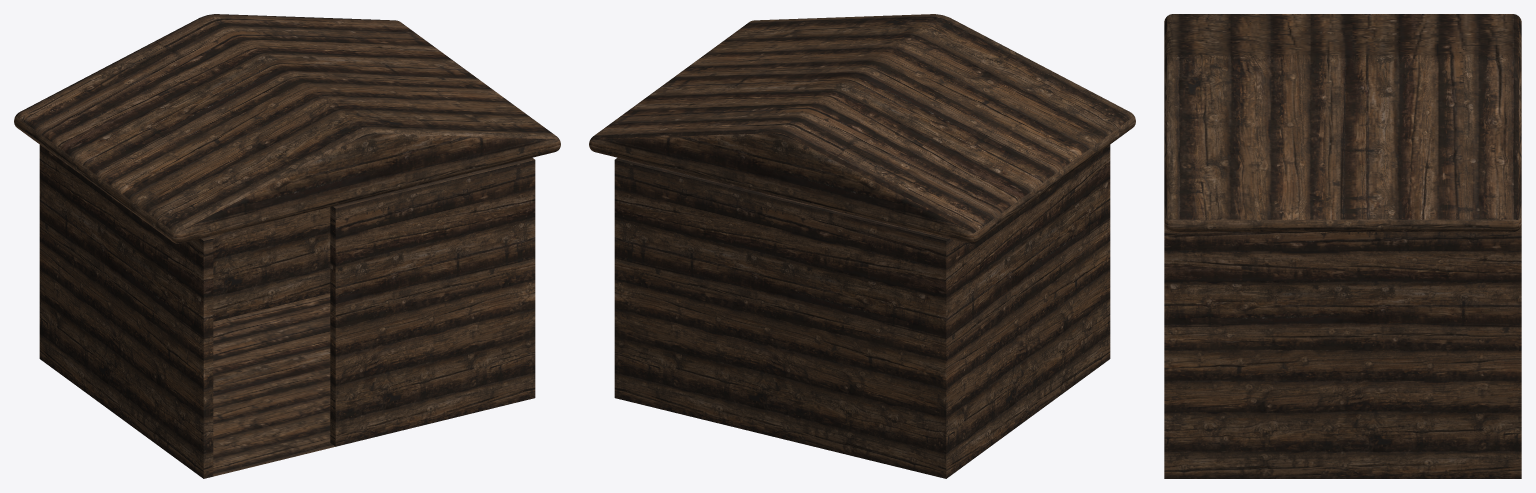
File: cabane.gltf
3 views of the same model, side by side, from view 1: azimuth 30°, elevation 25°; view 2: azimuth 150°, elevation 25°; view 3: azimuth 270°, elevation 25° (orthographic). The views are drawn at different scales.
Parts seen in each view (by area): view 1: Plane; view 2: Plane; view 3: Plane.
Part boxes in pixels (x1,y1,x2,y2): Plane: [14, 14, 560, 478]; Plane: [589, 14, 1135, 478]; Plane: [1164, 14, 1521, 478].
Size of the model in its own units: 4.1 by 3.08 by 3.
1 material, 1 textured.
